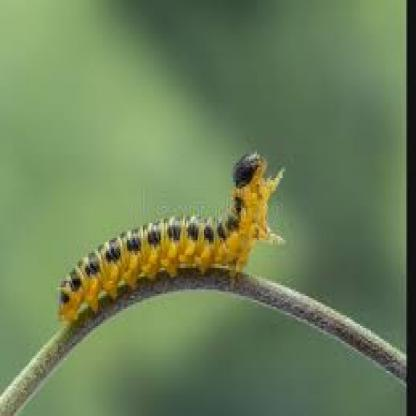sawfly: (54, 149, 293, 330)
